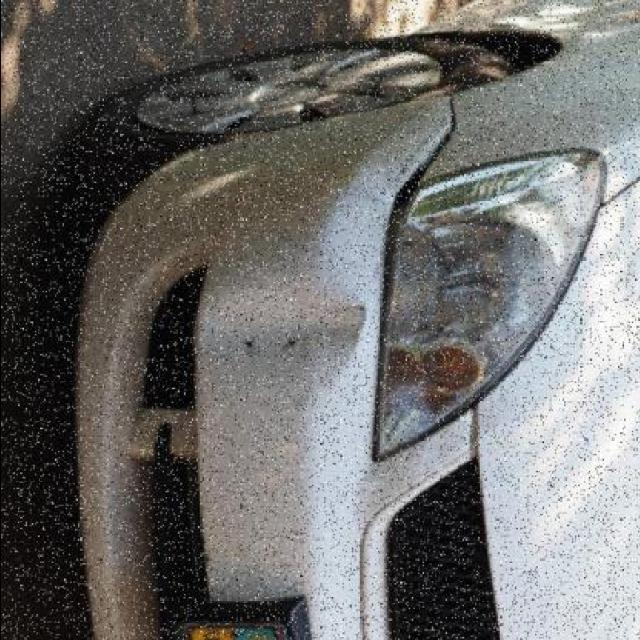front-bumper-dent: (56, 74, 446, 426)
